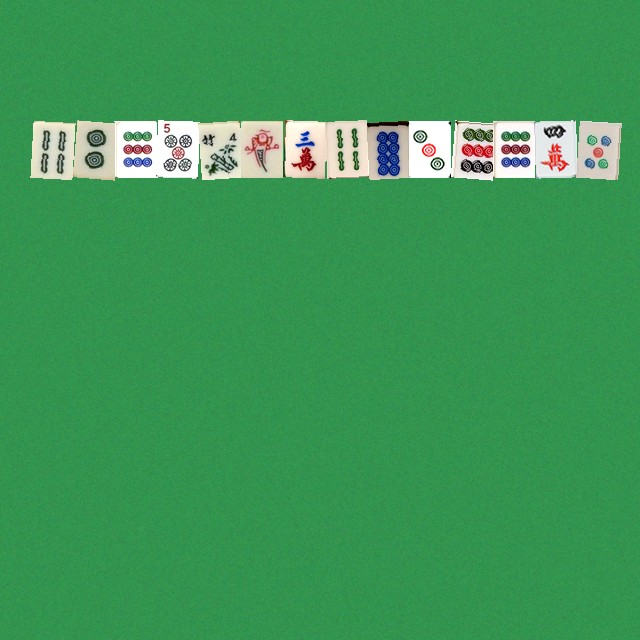tile: (30, 120, 72, 177), (72, 120, 114, 177), (114, 120, 156, 177), (156, 120, 198, 177), (198, 120, 240, 177), (240, 120, 282, 177), (282, 120, 324, 177), (324, 120, 366, 177), (366, 120, 408, 177), (408, 120, 450, 177), (450, 120, 492, 177), (492, 120, 534, 177), (534, 120, 576, 177), (576, 120, 618, 177)
